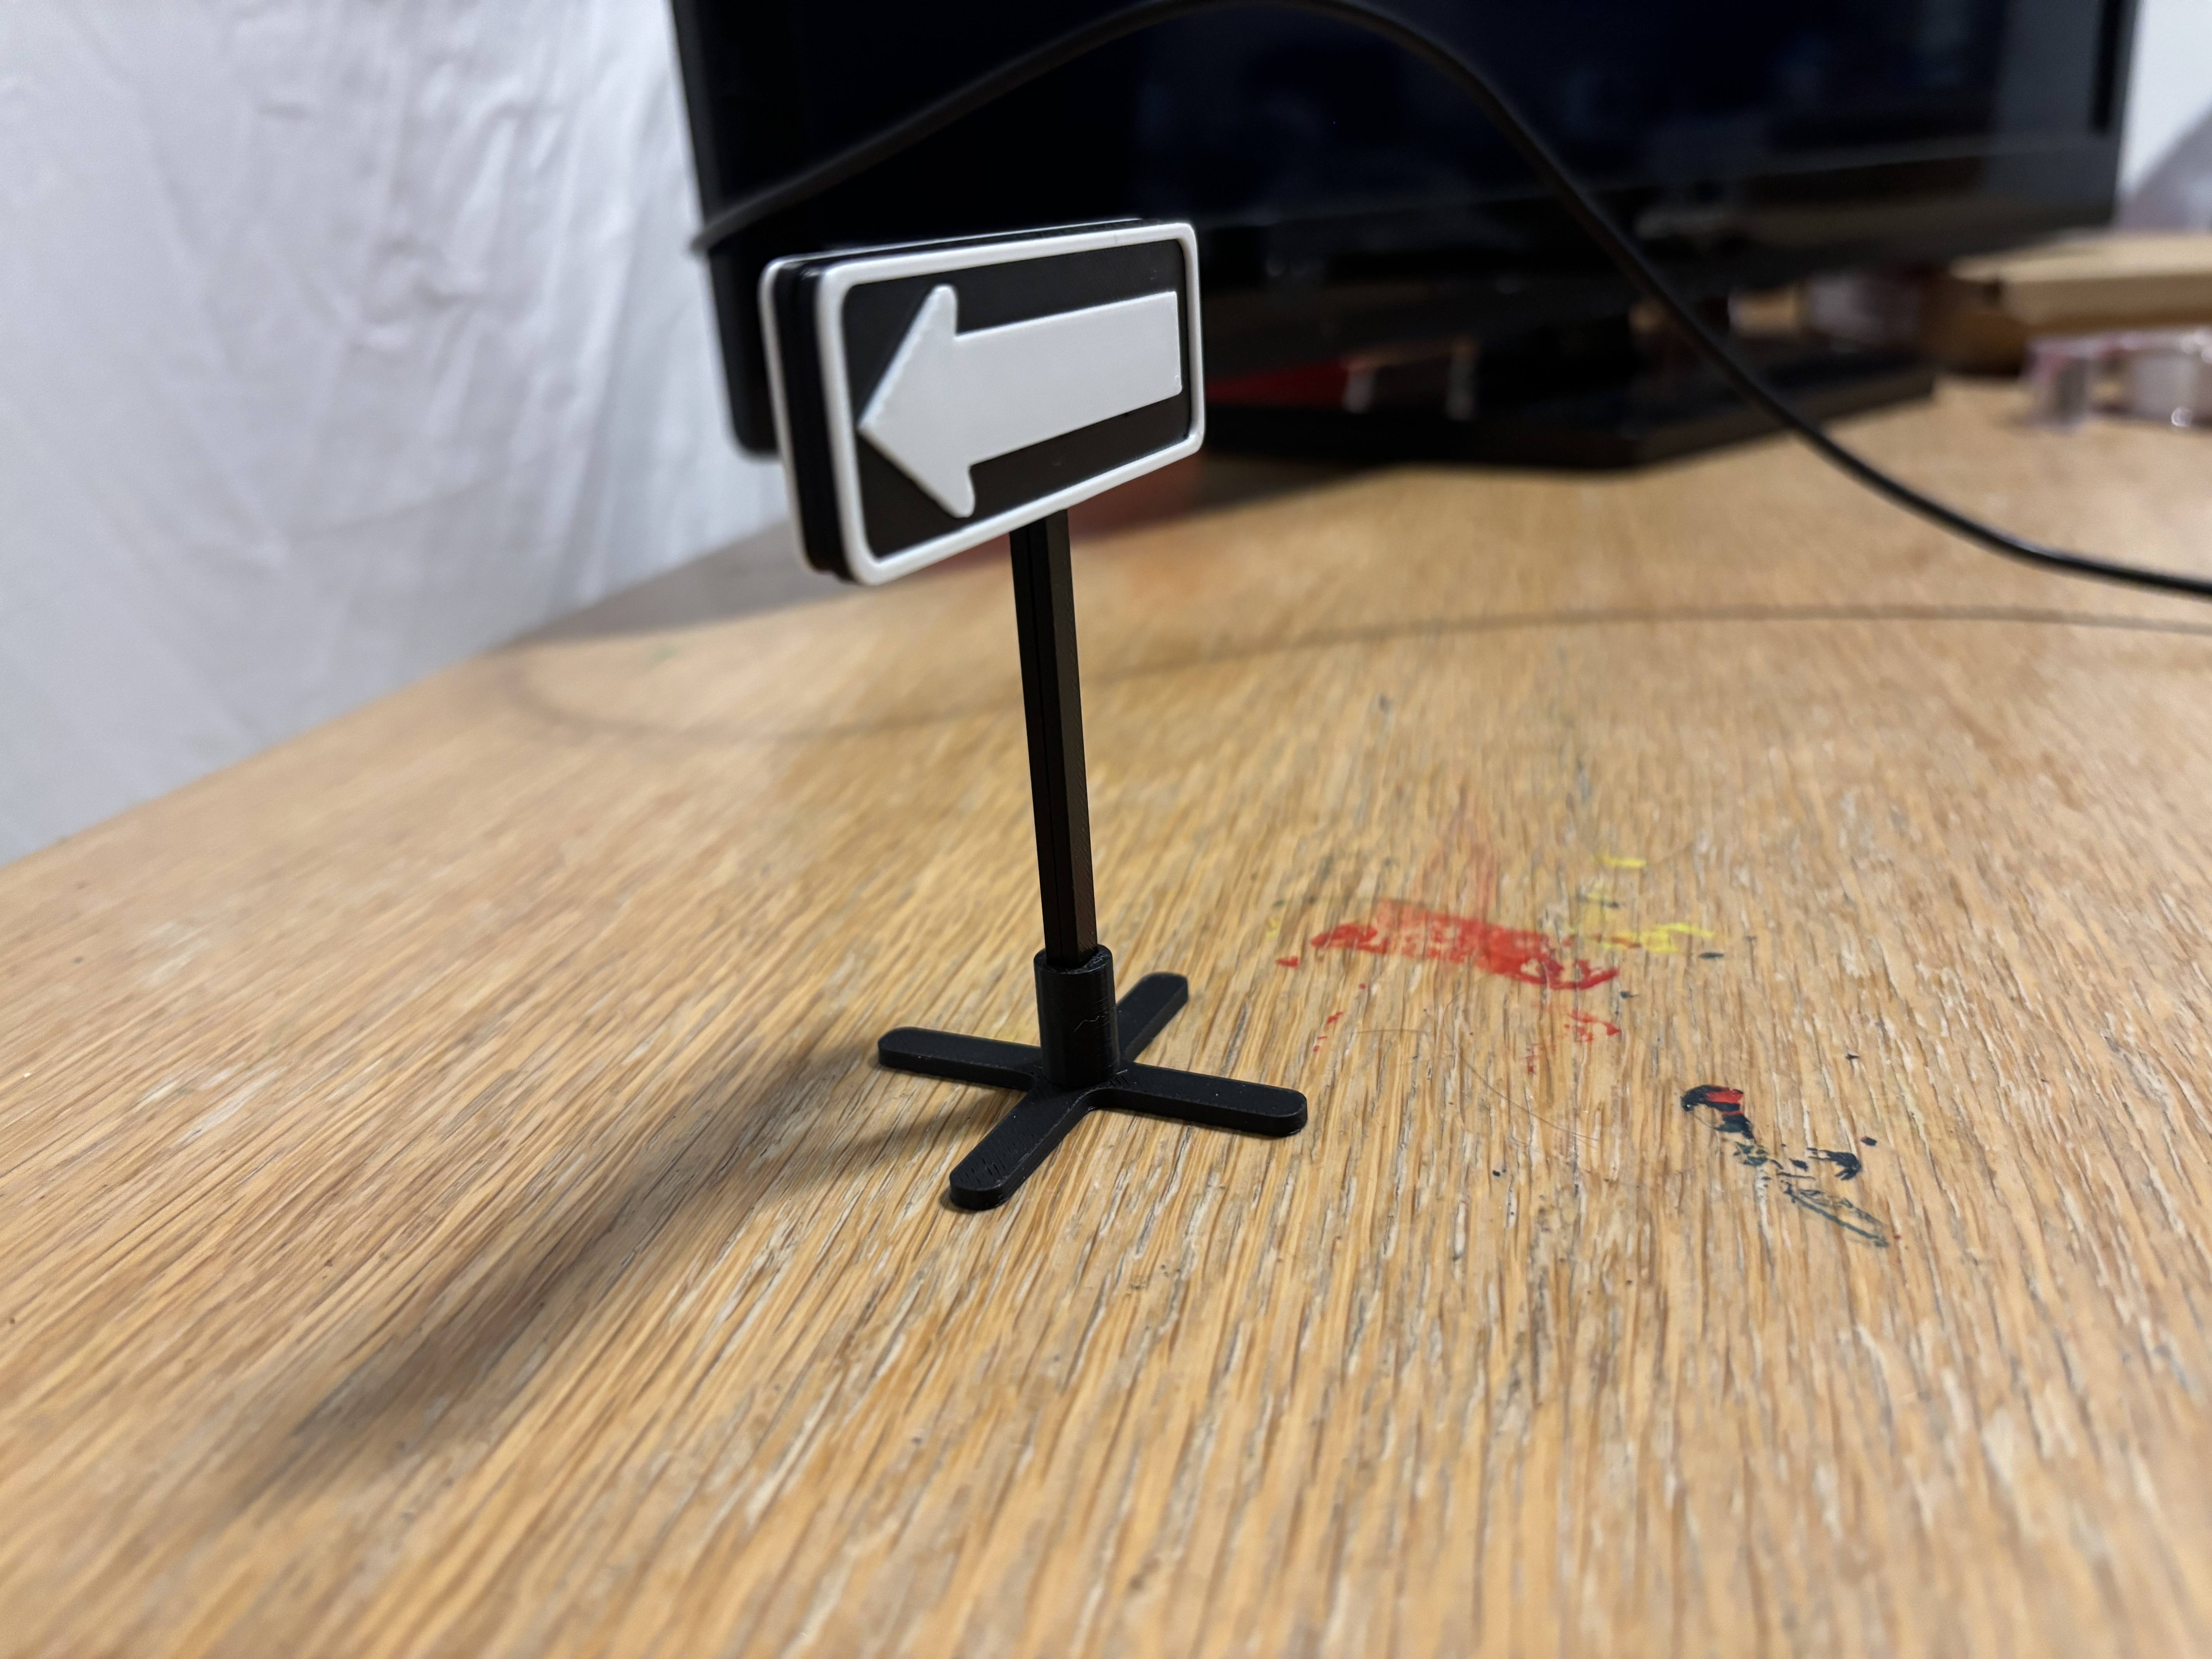sign_oneway_left: (786, 209, 1235, 580)
